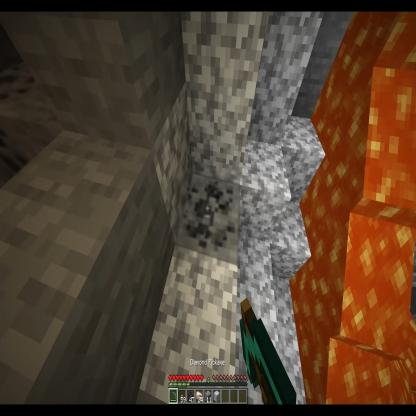coal ore: (174, 168, 240, 267), (0, 65, 37, 175)
